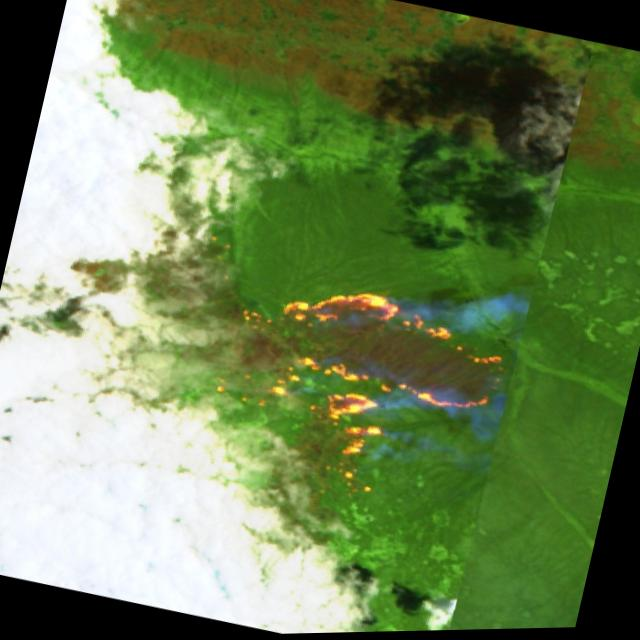fire: (176, 252, 521, 527)
